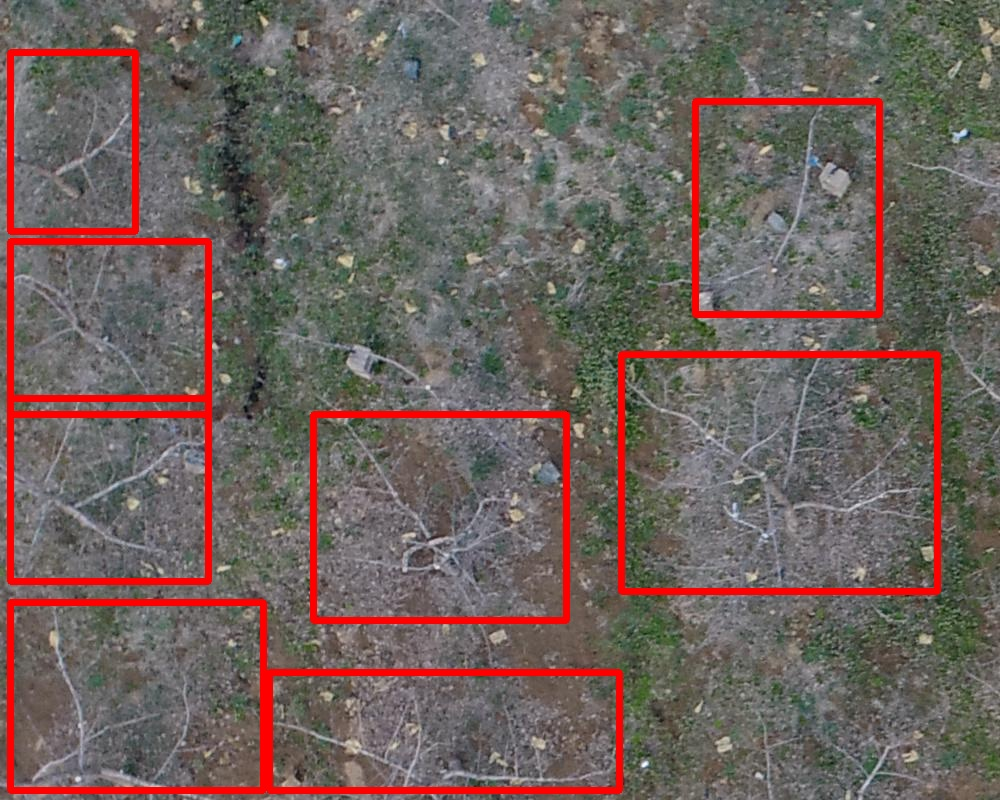apple: (621, 354, 937, 591), (313, 414, 566, 620), (10, 602, 263, 790), (269, 672, 619, 790), (695, 101, 879, 314), (10, 398, 208, 581), (10, 241, 208, 414), (10, 52, 135, 231)
